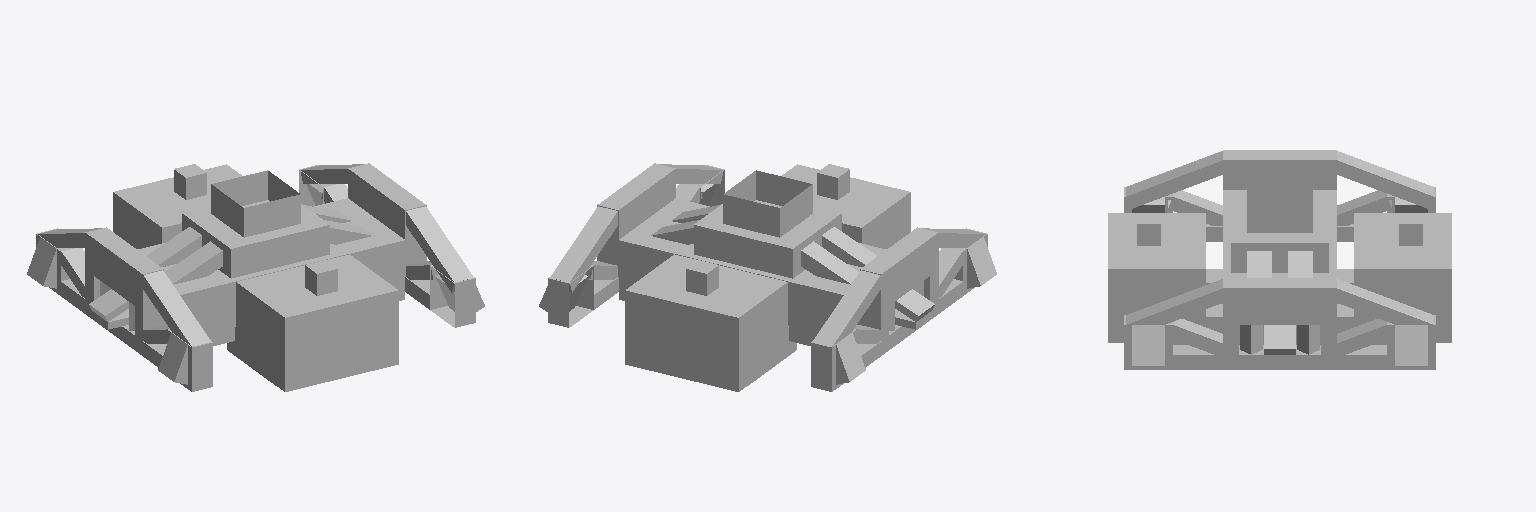
The model's file is frame.obj.
3 renders of one model, left to right at view 1: azimuth 30°, elevation 25°; view 2: azimuth 150°, elevation 25°; view 3: azimuth 270°, elevation 25°, orthographic.
Visible parts, largest first — view 1: cube_1, cube_3, cube_4, cube_13, cube_0, cube_31, cube_15, cube_30, cube_46, cube_17, cube_32, cube_6 (+13 smaller); view 2: cube_13, cube_3, cube_4, cube_1, cube_0, cube_31, cube_15, cube_27, cube_43, cube_26, cube_32, cube_5 (+13 smaller); view 3: cube_1, cube_13, cube_15, cube_4, cube_0, cube_16, cube_31, cube_43, cube_46, cube_27, cube_30, cube_3 (+16 smaller).
Part boxes in pixels (x1,y1,x2,y2): cube_1: (236, 254, 398, 391); cube_3: (137, 198, 404, 345); cube_4: (182, 200, 329, 278); cube_13: (113, 164, 241, 248); cube_0: (211, 170, 300, 237); cube_31: (85, 227, 163, 310); cube_15: (348, 163, 426, 247); cube_30: (406, 206, 473, 292); cube_46: (143, 270, 210, 346); cube_17: (430, 265, 475, 327); cube_32: (61, 279, 166, 367); cube_6: (165, 241, 222, 284); cube_13: (625, 254, 787, 391); cube_3: (619, 198, 886, 345); cube_4: (694, 200, 841, 278); cube_1: (782, 164, 910, 248); cube_0: (723, 170, 812, 237); cube_31: (860, 227, 938, 310); cube_15: (597, 163, 675, 247); cube_27: (550, 206, 617, 292); cube_43: (813, 270, 880, 346); cube_26: (548, 265, 593, 327); cube_32: (857, 279, 962, 367); cube_5: (801, 241, 858, 284); cube_1: (1108, 213, 1205, 342); cube_13: (1354, 213, 1451, 342); cube_15: (1223, 278, 1336, 324); cube_4: (1231, 195, 1328, 272); cube_0: (1247, 175, 1312, 232); cube_16: (1173, 345, 1386, 369); cube_31: (1223, 150, 1336, 189); cube_43: (1337, 151, 1433, 208); cube_46: (1126, 151, 1222, 208); cube_27: (1337, 279, 1433, 324); cube_30: (1126, 279, 1222, 324); cube_3: (1223, 190, 1336, 344).
Size of the model in its own units: 2.8 by 1.12 by 2.62.